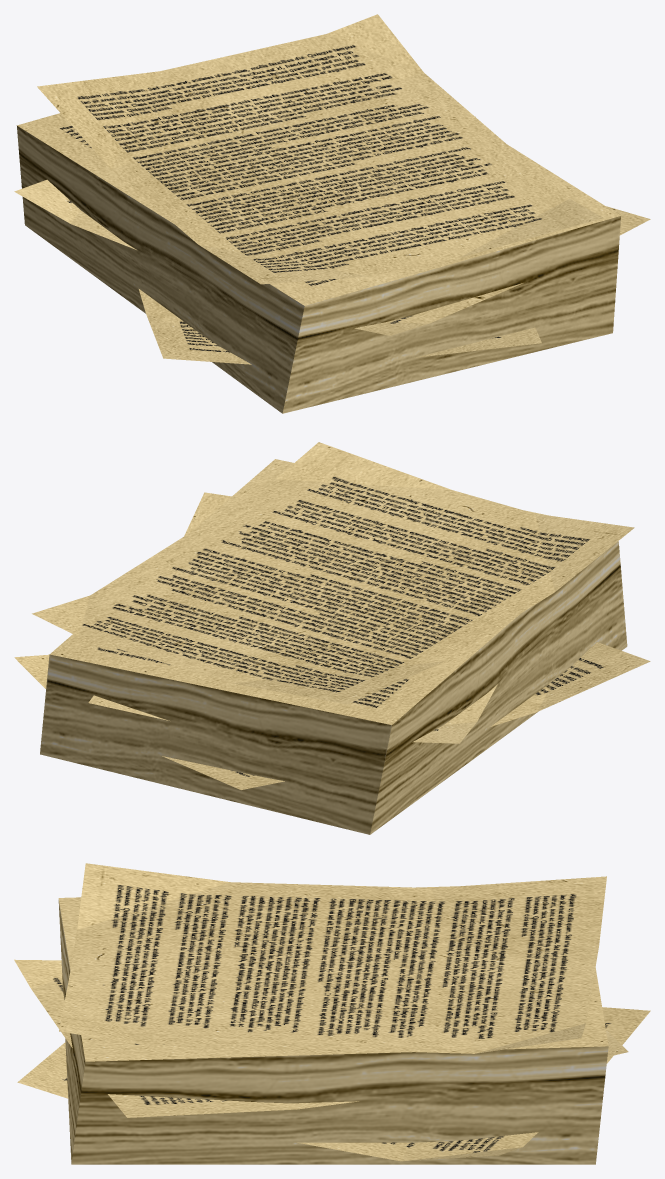
File: Paper_Pile.fbx
The picture shows the model from 3 angles, top to bottom: view 1: azimuth 30°, elevation 25°; view 2: azimuth 150°, elevation 25°; view 3: azimuth 270°, elevation 25°; orthographic projection.
Parts seen in each view (by area): view 1: Paper_Pile; view 2: Paper_Pile; view 3: Paper_Pile.
Boxes of the visible parts, x1,y1,x2,y2 form: Paper_Pile: [14, 14, 650, 413]; Paper_Pile: [14, 442, 650, 834]; Paper_Pile: [14, 863, 650, 1164].
Bounding box in the file's own units: 39.48 × 10.47 × 45.04.
